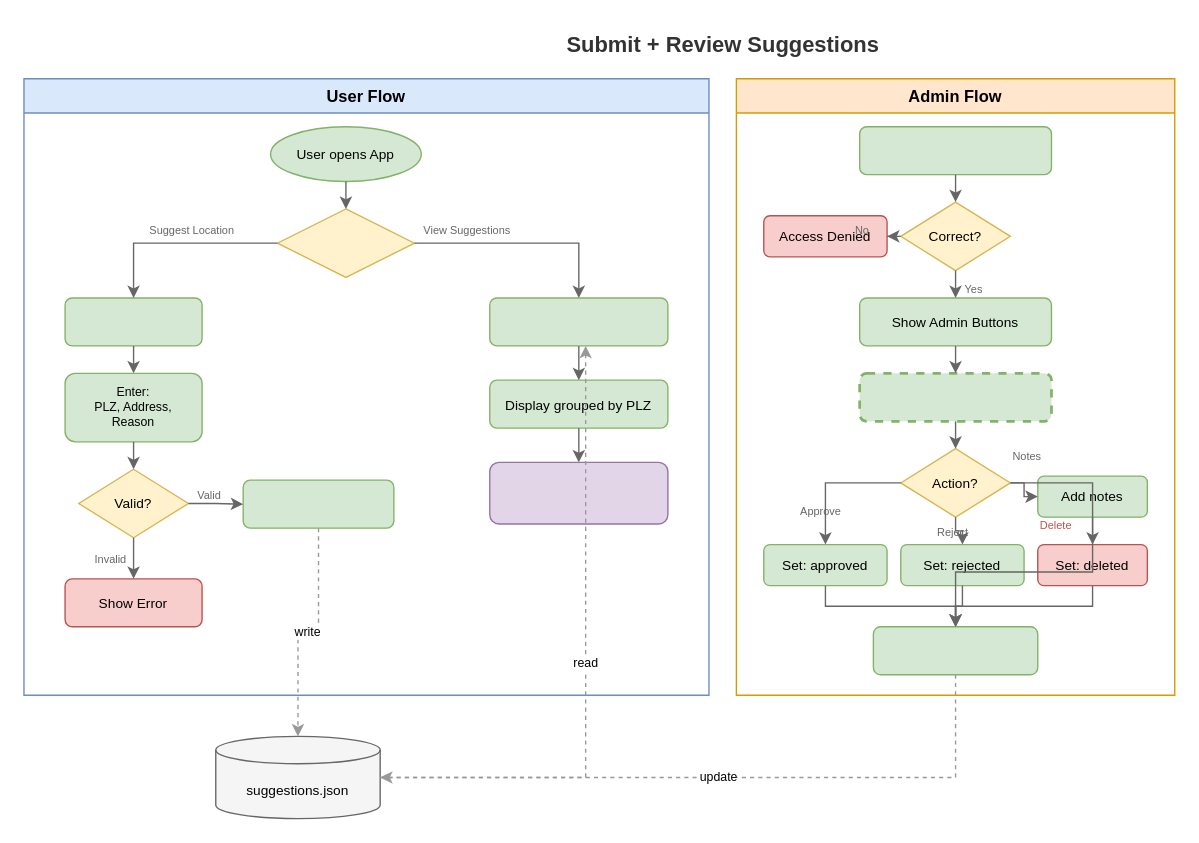
Some shapes in this 1199 by 843 pixel diagram are drawn without their labels. The centre of each missing label's shape, as x and y in pixels:
"Admin enters password" goes at point (954, 150).
"Display Form" goes at point (133, 321).
"Load All Suggestions" goes at point (578, 321).
"Save & Refresh" goes at point (955, 650).
"Save Suggestion" goes at point (318, 503).
"Select Suggestion" goes at point (955, 396).
"Select Tab" goes at point (345, 242).
"Show: Pending / Approved (Rejected hidden)" goes at point (578, 492).
